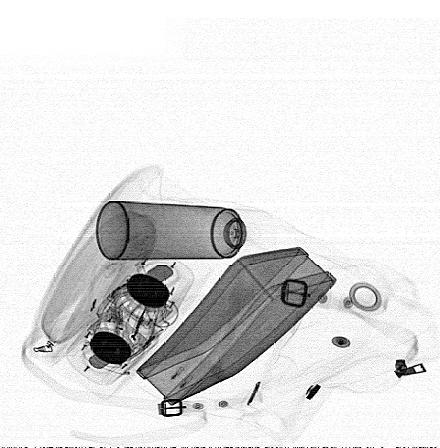Sprayer: (96, 201, 276, 260)
